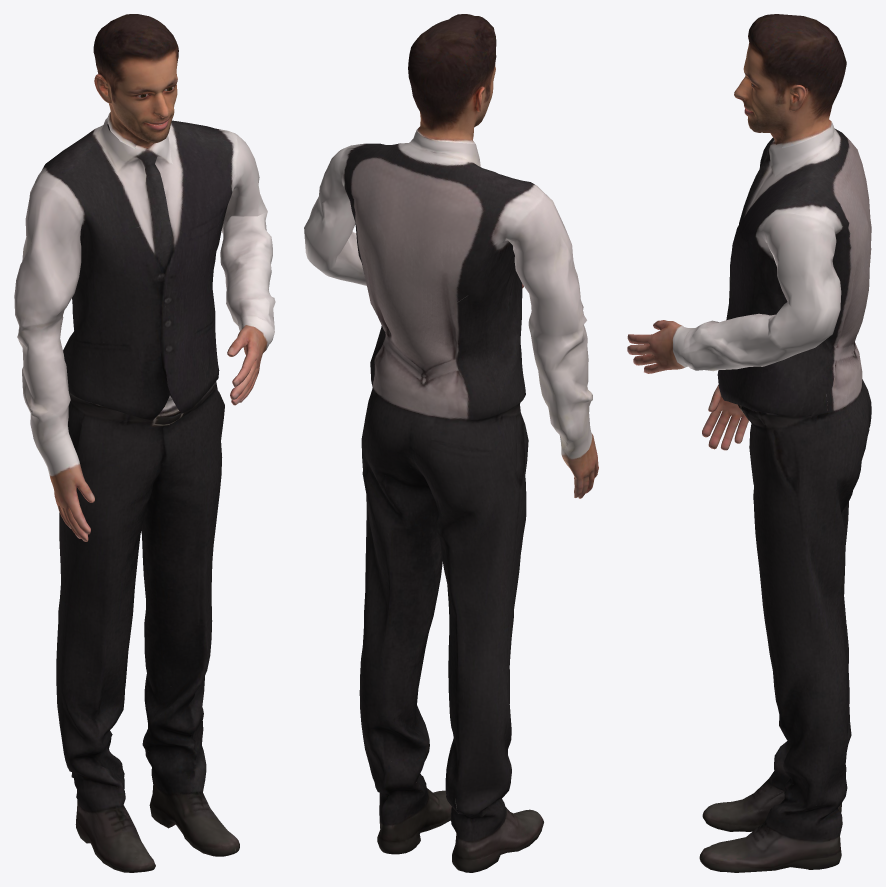
File: eric.glb
The picture shows the model from 3 angles, left to right: view 1: azimuth 30°, elevation 25°; view 2: azimuth 150°, elevation 25°; view 3: azimuth 270°, elevation 25°; orthographic projection.
Visible parts, largest first — view 1: rp_eric_rigged_001_geo.001, rp_eric_rigged_001_geo; view 2: rp_eric_rigged_001_geo.001, rp_eric_rigged_001_geo; view 3: rp_eric_rigged_001_geo.001, rp_eric_rigged_001_geo.
Boxes of the visible parts, x1,y1,x2,y2 form: rp_eric_rigged_001_geo.001: (14, 114, 275, 872); rp_eric_rigged_001_geo: (93, 14, 178, 148); rp_eric_rigged_001_geo.001: (304, 130, 598, 872); rp_eric_rigged_001_geo: (408, 14, 496, 143); rp_eric_rigged_001_geo.001: (627, 122, 871, 872); rp_eric_rigged_001_geo: (734, 14, 846, 147).
Bounding box in the file's own units: 0.6166 × 1.86 × 0.5009.
2 materials, 2 textured.
